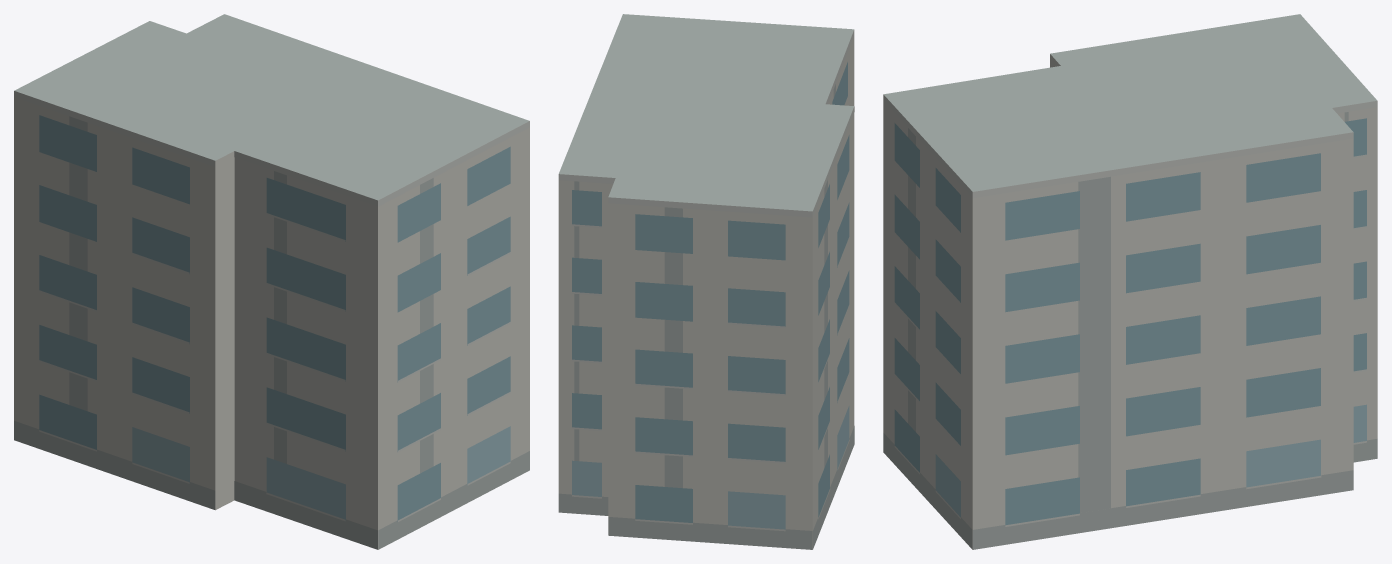
The model's file is survey-upis-32829055.glb.
The picture shows the model from 3 angles, left to right: view 1: azimuth 30°, elevation 25°; view 2: azimuth 150°, elevation 25°; view 3: azimuth 270°, elevation 25°; orthographic projection. The views are drawn at different scales.
Parts seen in each view (by area): view 1: survey-upis-32829055.tmp; view 2: survey-upis-32829055.tmp; view 3: survey-upis-32829055.tmp.
Boxes of the visible parts, x1,y1,x2,y2 form: survey-upis-32829055.tmp: (14,14,529,549); survey-upis-32829055.tmp: (558,14,854,549); survey-upis-32829055.tmp: (883,14,1377,549).
Size of the model in its own units: 14.4 by 13.5 by 16.9.
